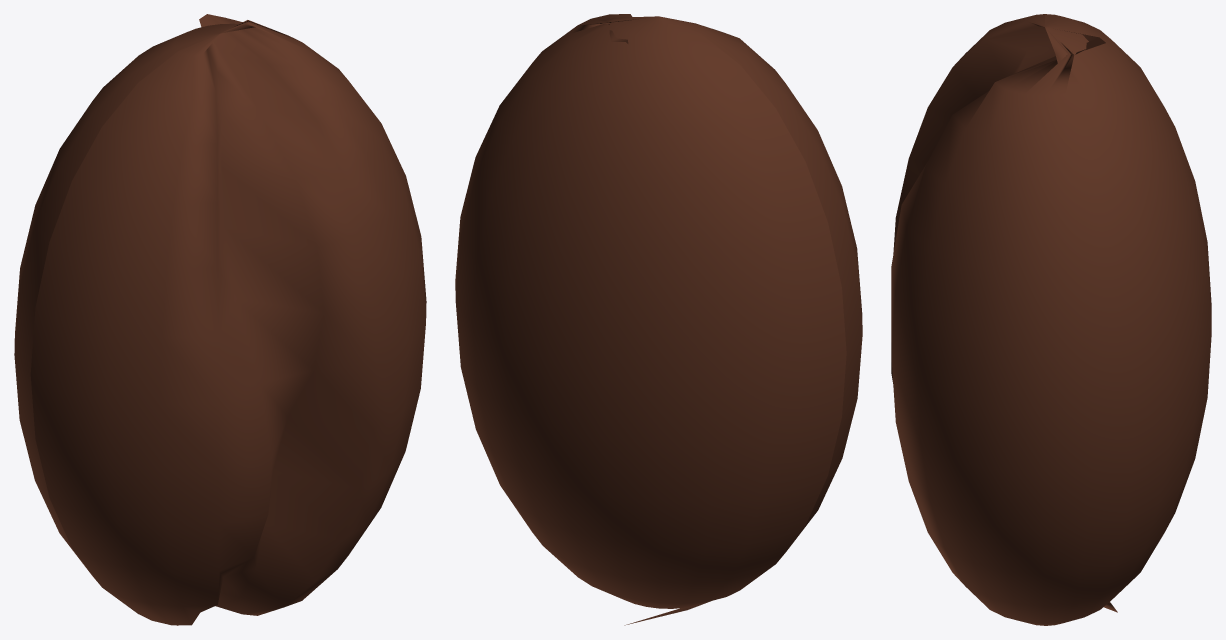
The model's file is coffee-bean.glb.
3 views of the same model, side by side, from view 1: azimuth 30°, elevation 25°; view 2: azimuth 150°, elevation 25°; view 3: azimuth 270°, elevation 25° (orthographic).
Visible parts, largest first — view 1: CoffeeBean; view 2: CoffeeBean; view 3: CoffeeBean.
Boxes of the visible parts, x1,y1,x2,y2 form: CoffeeBean: (14,14,426,625); CoffeeBean: (455,14,862,625); CoffeeBean: (891,14,1211,625).
Bounding box in the file's own units: 0.62 × 0.92 × 0.4563.
